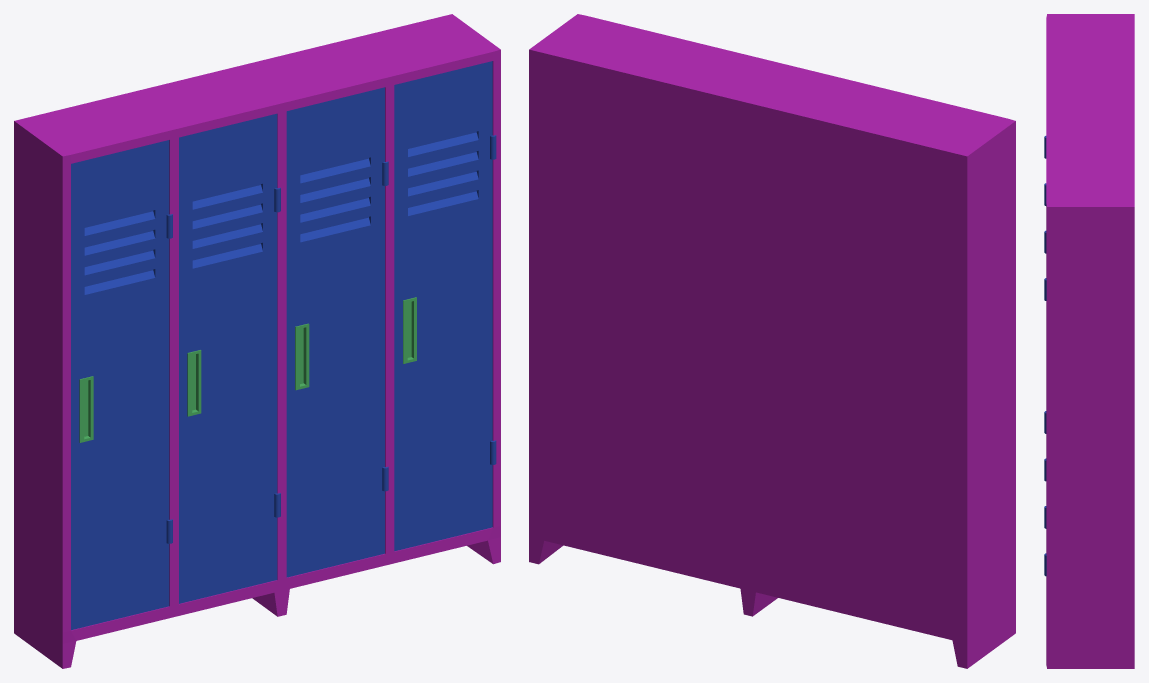
File: Lockers_low.fbx
3 renders of one model, left to right at view 1: azimuth 30°, elevation 25°; view 2: azimuth 150°, elevation 25°; view 3: azimuth 270°, elevation 25°, orthographic. The views are drawn at different scales.
Parts seen in each view (by area): view 1: Locker_low, Door_4_low, Door_3_low, Door_1_low, Door_2_low; view 2: Locker_low; view 3: Locker_low.
Part boxes in pixels (x1=…): Locker_low: x1=14, y1=14, x2=500, y2=668; Door_4_low: x1=394, y1=61, x2=496, y2=551; Door_3_low: x1=286, y1=87, x2=388, y2=577; Door_1_low: x1=71, y1=140, x2=172, y2=630; Door_2_low: x1=179, y1=113, x2=280, y2=603; Locker_low: x1=529, y1=14, x2=1015, y2=668; Locker_low: x1=1046, y1=14, x2=1134, y2=668.
Size of the model in its own units: 197 by 220 by 39.03.
